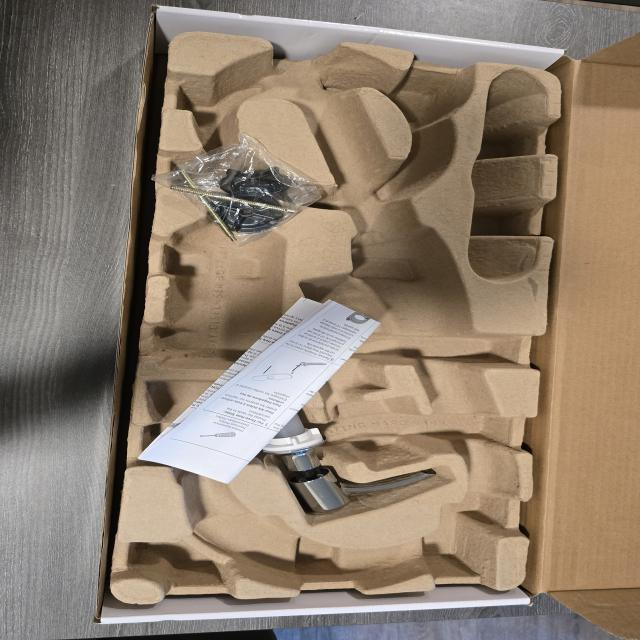1m: (149, 42, 516, 589)
2o: (248, 394, 434, 514)
3m: (163, 195, 283, 372)
4m: (472, 69, 546, 282)
5m: (394, 79, 460, 119)
6m: (177, 65, 266, 132)
7: (148, 133, 326, 243)
8: (136, 298, 387, 484)
